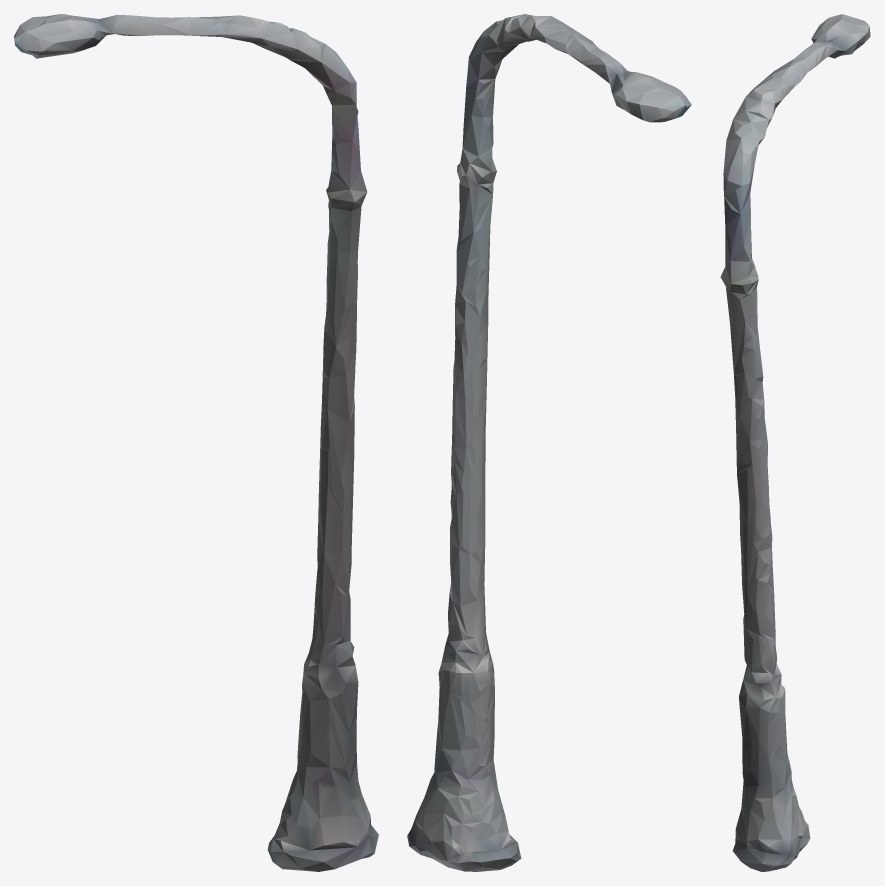
File: streetlamp.glb
3 views of the same model, side by side, from view 1: azimuth 30°, elevation 25°; view 2: azimuth 150°, elevation 25°; view 3: azimuth 270°, elevation 25° (orthographic). The views are drawn at different scales.
Parts seen in each view (by area): view 1: world; view 2: world; view 3: world.
Boxes of the visible parts, box(x1,y1,x2,y2) form: world: box(14, 14, 378, 871); world: box(407, 14, 691, 871); world: box(720, 14, 870, 871).
Bounding box in the file's own units: 2.69 × 7 × 1.28.
